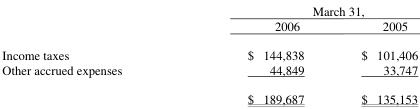table: (1, 1, 417, 106)
table column: (1, 1, 184, 106), (184, 1, 332, 106), (332, 1, 417, 106)
table column header: (1, 1, 417, 39)
table row: (1, 83, 417, 106), (1, 17, 417, 39), (1, 39, 417, 61), (1, 61, 417, 83), (1, 1, 417, 17)
table spanning cell: (184, 1, 417, 17)
